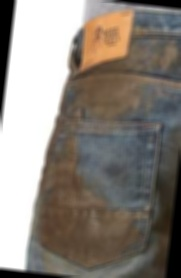earth: (37, 201, 132, 254), (79, 69, 132, 117), (128, 40, 181, 78), (42, 150, 78, 202)
